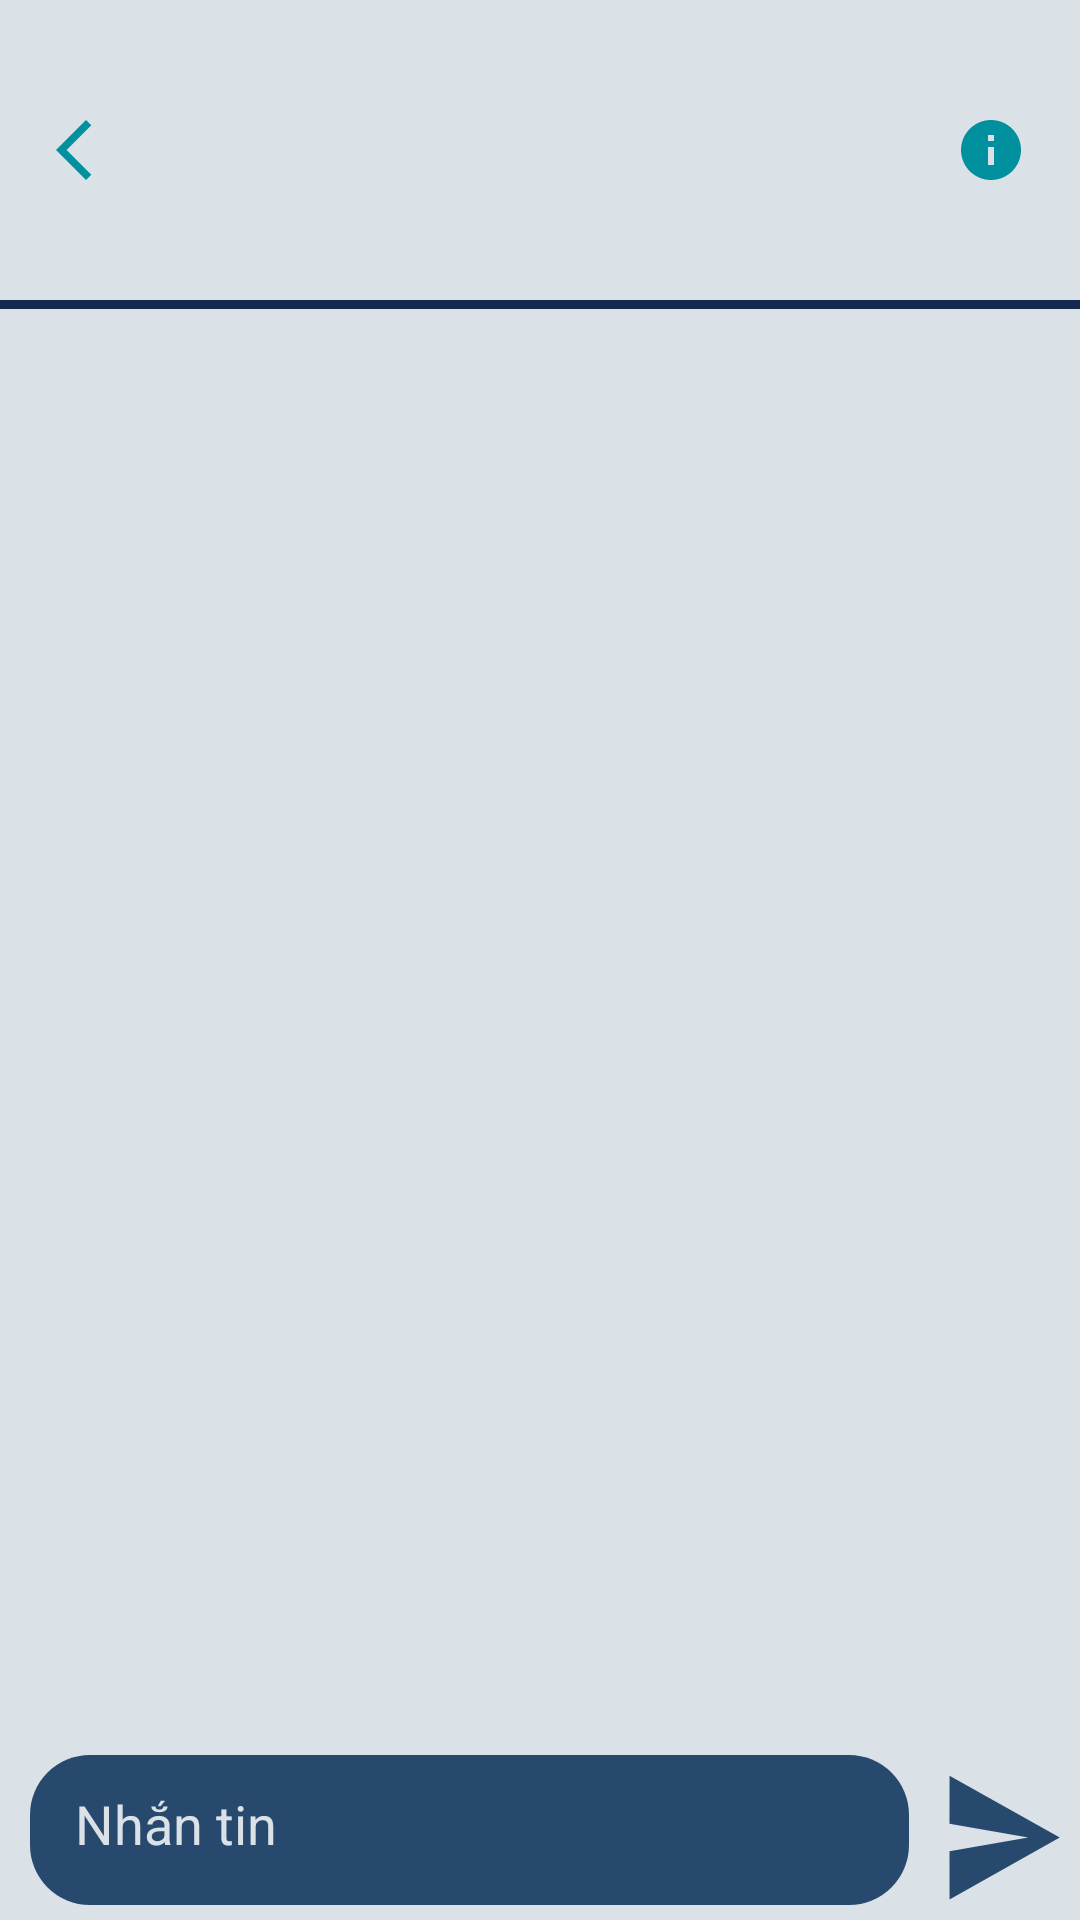

Icons on this 1080w x 1920h Android screen, each with its box as (x1, y1, x2, y2):
back: (56, 120, 91, 180)
chat info: (961, 120, 1021, 180)
send: (949, 1776, 1060, 1900)
